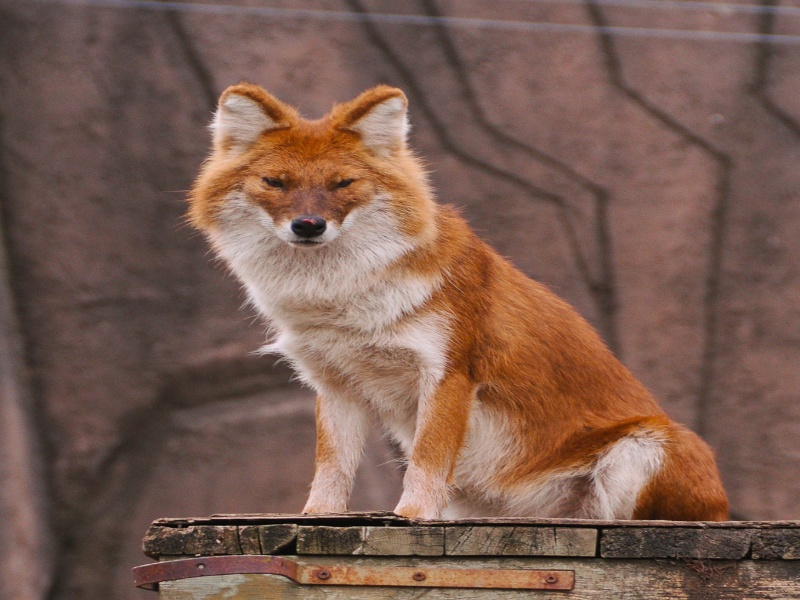fox: (190, 83, 726, 528)
